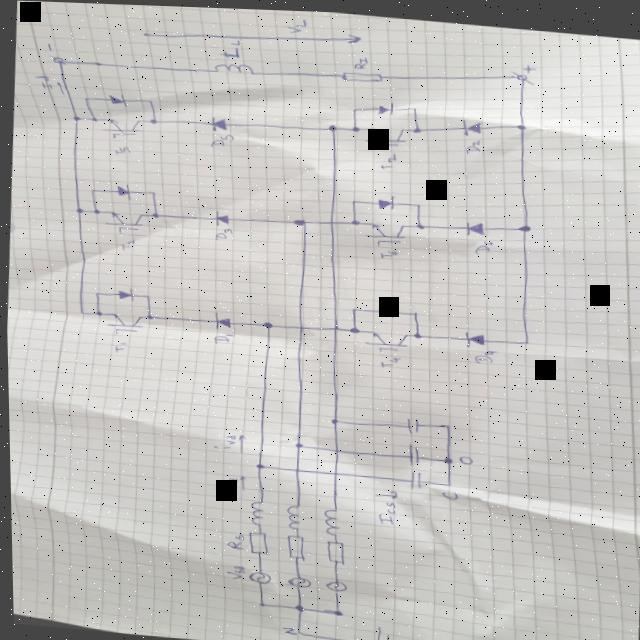capacitor: (404, 441, 419, 463), (404, 468, 420, 488), (402, 414, 419, 432)
crossover: (288, 465, 299, 472), (329, 445, 339, 452), (325, 217, 333, 224), (295, 322, 302, 329), (328, 469, 336, 475), (327, 325, 335, 329)
diode: (207, 309, 232, 330), (458, 115, 483, 135), (458, 328, 485, 346), (113, 181, 134, 201), (462, 217, 485, 234), (374, 98, 397, 115), (374, 191, 395, 209), (209, 208, 230, 226), (207, 115, 228, 131), (114, 286, 135, 302), (106, 93, 127, 107), (375, 301, 394, 316)
ground: (366, 622, 397, 640)
inductor: (211, 60, 256, 75), (318, 505, 338, 536), (282, 502, 300, 530), (245, 498, 263, 525)
junction: (325, 414, 339, 424), (291, 216, 305, 226), (516, 221, 530, 230), (258, 319, 272, 328), (289, 602, 302, 611), (439, 453, 451, 462), (325, 121, 337, 130), (345, 324, 358, 332), (514, 119, 526, 127), (328, 607, 341, 614), (147, 117, 158, 125), (70, 114, 80, 122), (90, 309, 100, 317), (410, 329, 420, 337), (414, 220, 424, 228), (142, 312, 152, 320), (251, 461, 262, 468), (291, 440, 302, 447), (411, 124, 422, 131), (73, 207, 83, 214), (348, 217, 358, 224), (349, 123, 359, 130), (439, 419, 449, 426), (289, 627, 299, 634), (90, 209, 99, 215), (149, 211, 158, 217), (88, 117, 98, 122), (91, 290, 99, 296), (74, 310, 83, 315), (408, 308, 416, 313), (254, 601, 262, 606), (347, 305, 355, 310), (141, 293, 149, 298), (520, 337, 528, 342), (347, 197, 355, 202), (144, 98, 152, 103), (442, 480, 450, 484), (412, 200, 420, 204), (409, 104, 417, 108), (349, 105, 357, 109), (148, 191, 155, 195), (87, 188, 94, 192), (81, 97, 88, 101)
resistor: (340, 67, 384, 83), (280, 532, 305, 560), (243, 529, 266, 554), (320, 538, 343, 563)
source: (283, 573, 311, 587), (243, 569, 269, 583), (320, 578, 345, 590)
terminal: (506, 66, 536, 82), (47, 54, 70, 67)
text: (370, 498, 395, 523), (216, 36, 241, 58), (208, 432, 236, 450), (209, 474, 236, 492), (471, 345, 497, 362), (206, 132, 233, 148), (376, 149, 398, 168), (284, 16, 307, 33), (33, 73, 56, 90), (375, 352, 401, 367), (209, 330, 234, 345), (221, 562, 243, 579), (462, 135, 482, 153), (222, 531, 243, 548), (471, 237, 493, 252), (109, 143, 132, 157), (212, 226, 233, 240), (375, 245, 397, 258), (117, 237, 136, 252), (109, 340, 127, 353), (351, 54, 368, 67), (438, 487, 455, 498), (519, 60, 537, 70), (455, 452, 469, 461), (278, 625, 292, 633), (43, 43, 54, 52)
transistor: (361, 218, 407, 248), (362, 122, 408, 150), (360, 327, 409, 352), (102, 311, 144, 338), (99, 115, 142, 141), (101, 210, 143, 236)
